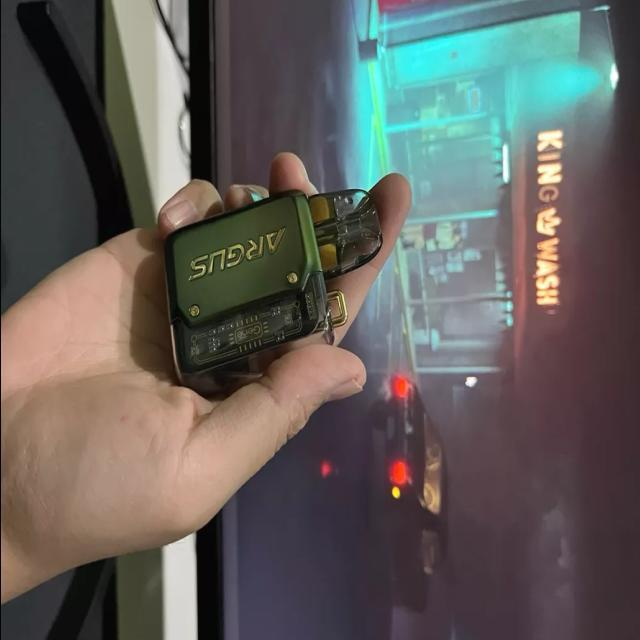Hazard: (163, 188, 380, 402)
